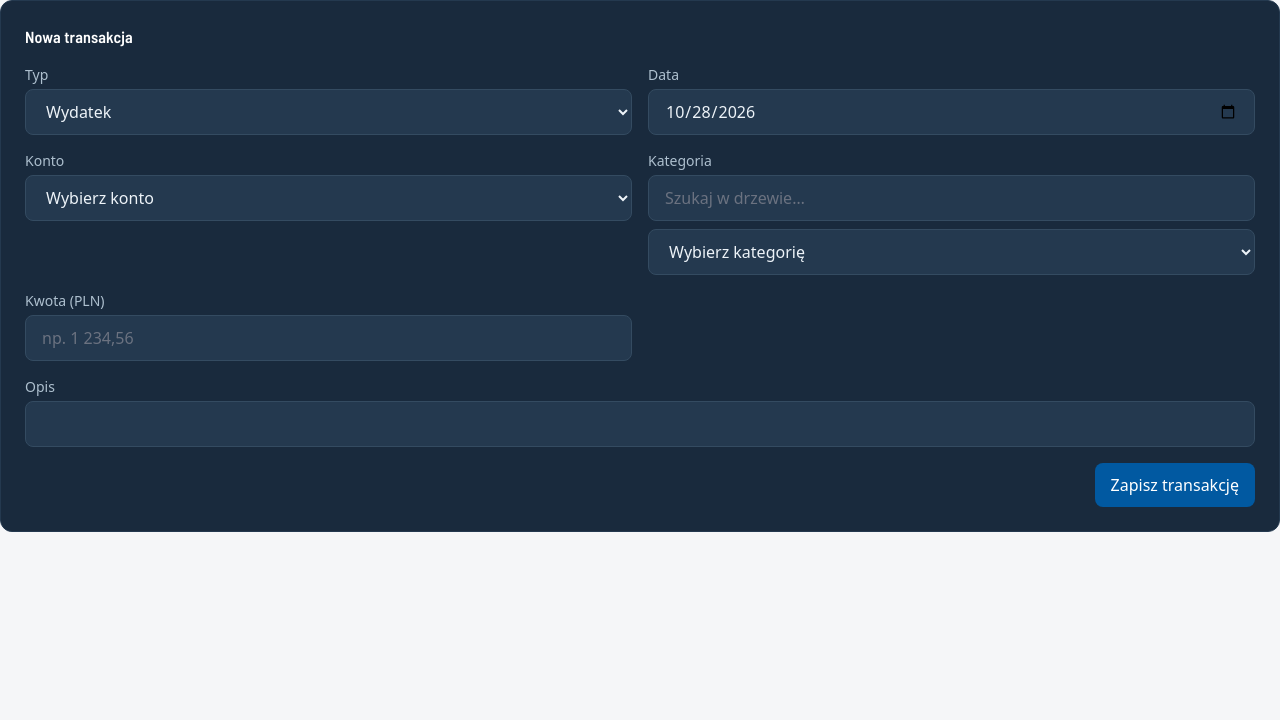
Test: TransactionForm › shows a validation message and does not submit when amount is empty
The width and height of the screenshot is (1280, 720).
Select "Rachunek a1" in the dropdown labelled "Konto" at (328, 198), box [25, 175, 632, 221]
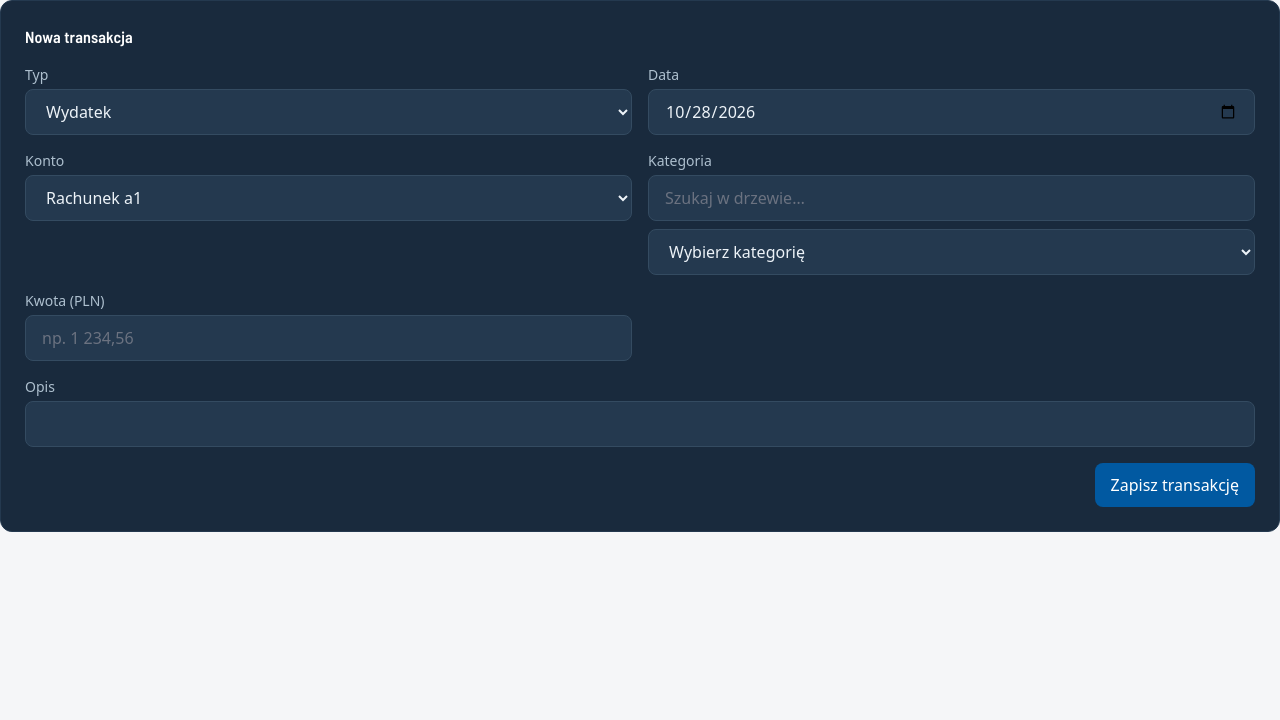
Select "Czynsz" in the dropdown labelled "Kategoria" at (952, 252), box [648, 229, 1255, 275]
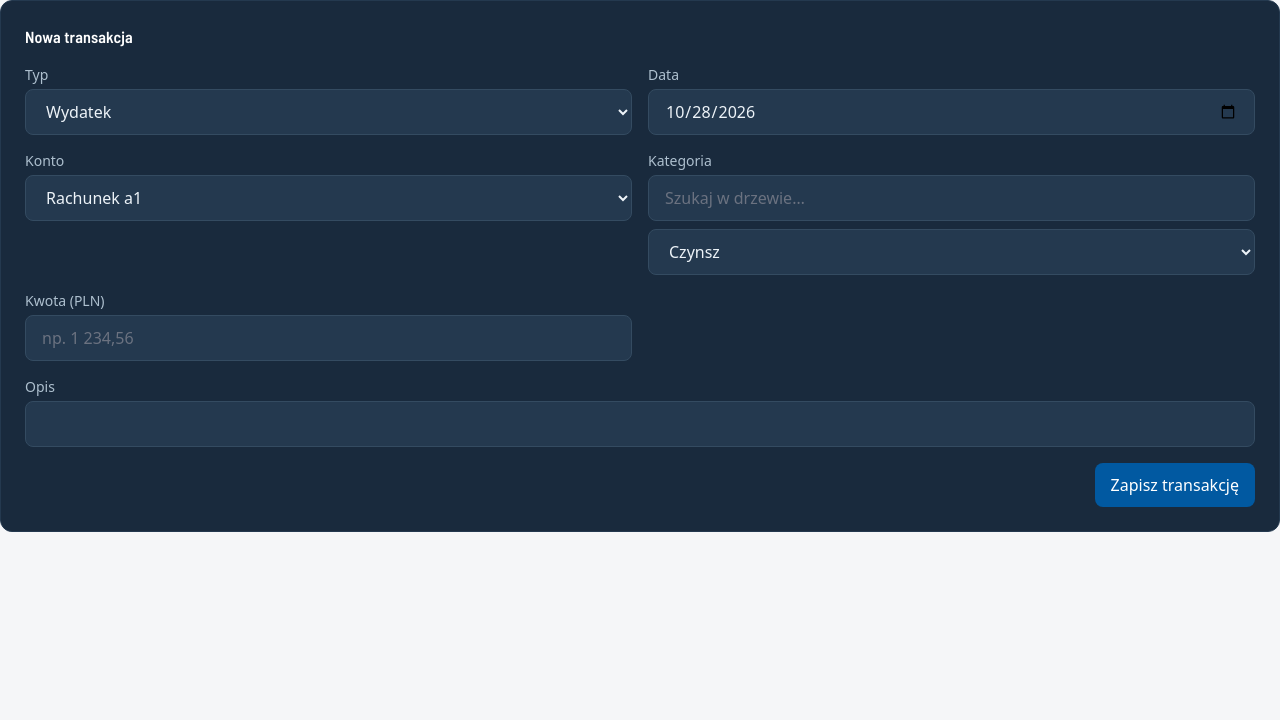
Type "test" into the field labelled "Opis" at (640, 424), box [25, 401, 1255, 447]
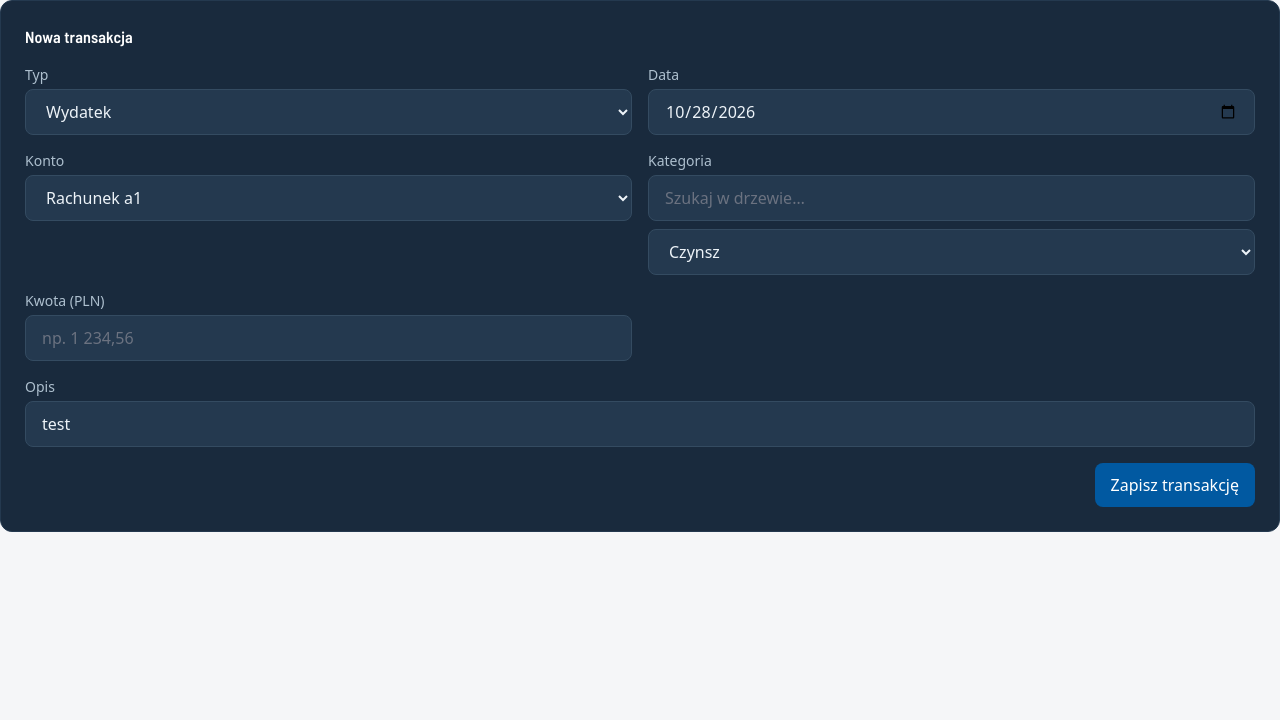
Click the button "Zapisz transakcję" at (1175, 485), box [1095, 463, 1255, 507]
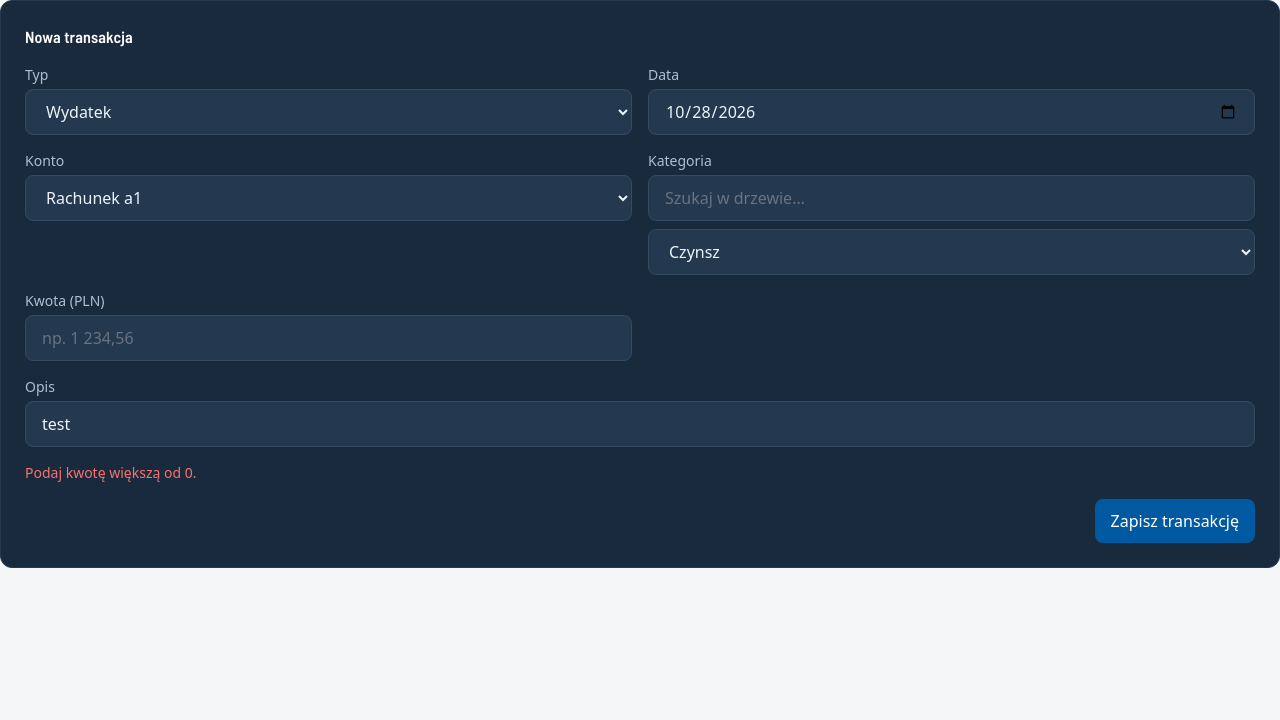
Now the message reads "Podaj kwotę większą od 0.", box [25, 463, 196, 482]
